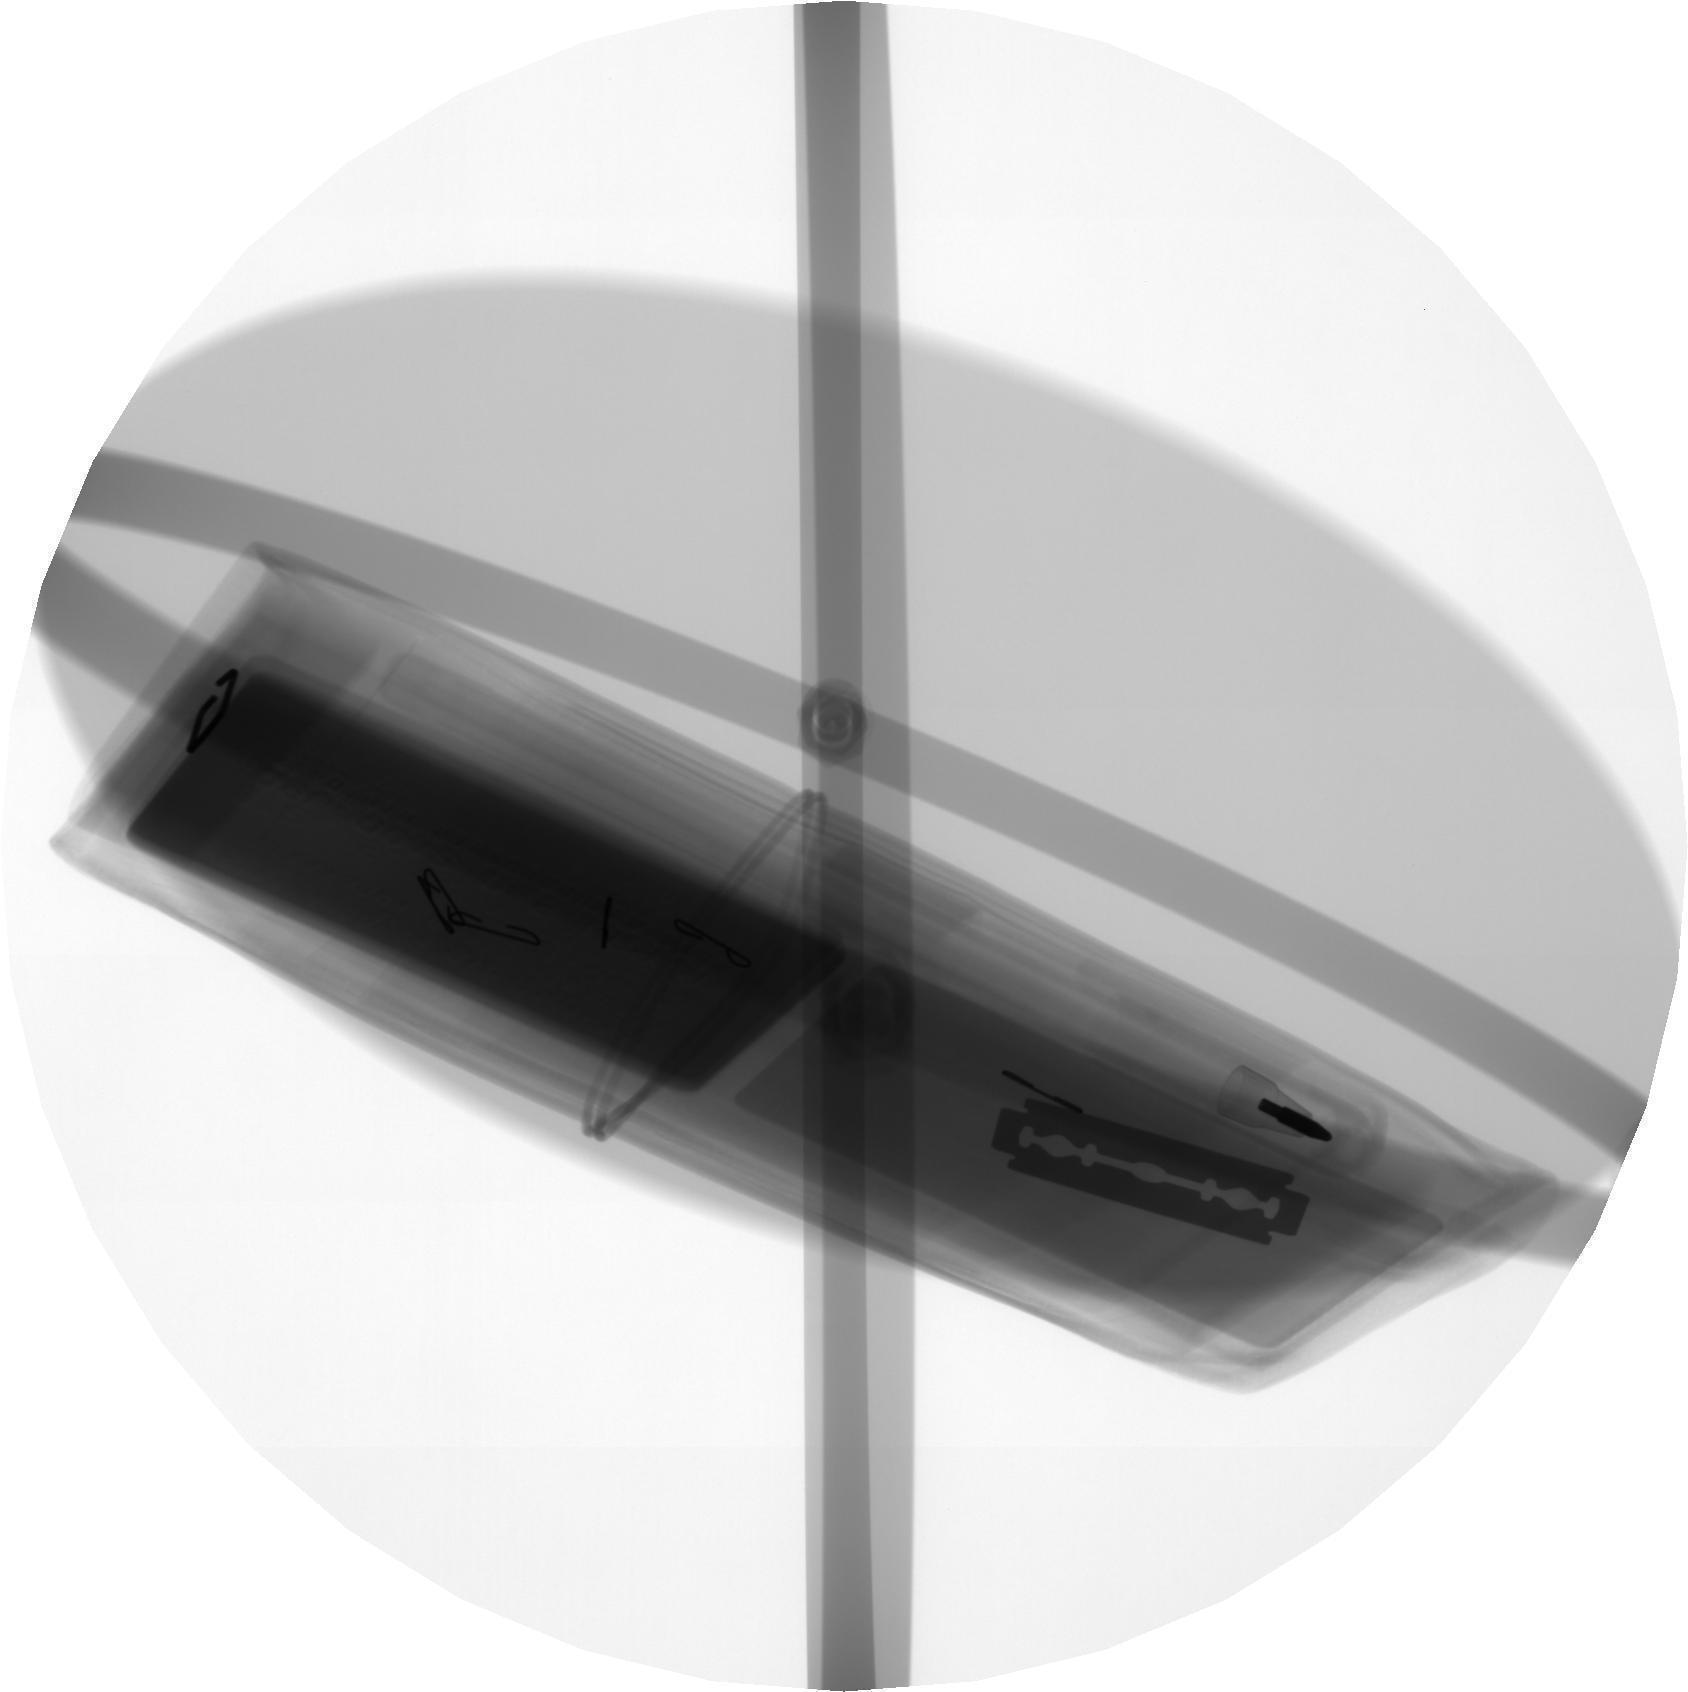RazorBlade: (978, 1094, 1319, 1258)
